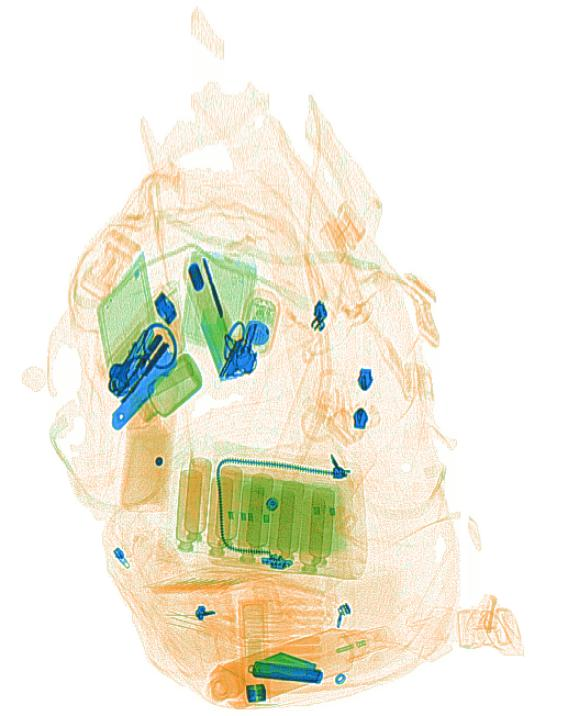knife: (110, 351, 178, 431), (246, 651, 324, 684)
plasticBottleWithaNozzle: (219, 625, 393, 709)
